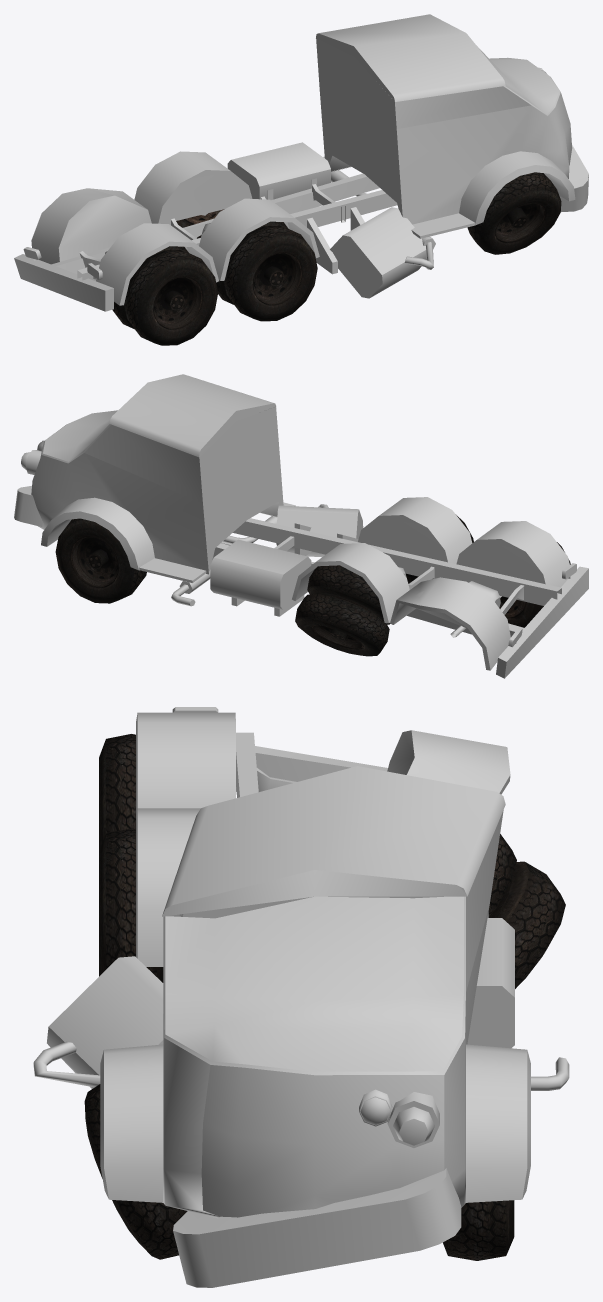
3 views of the same model, one above another, from view 1: azimuth 30°, elevation 25°; view 2: azimuth 150°, elevation 25°; view 3: azimuth 270°, elevation 25° (orthographic). The views are drawn at different scales.
Visible parts, largest first — view 1: Car; view 2: Car; view 3: Car.
Part boxes in pixels (box(x1,y1,x2,y2)): Car: box(14, 14, 588, 345); Car: box(14, 374, 588, 678); Car: box(33, 707, 569, 1287).
Size of the model in its own units: 359 by 133 by 165.
